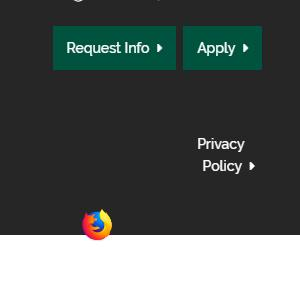firefox: (81, 208, 112, 240)
